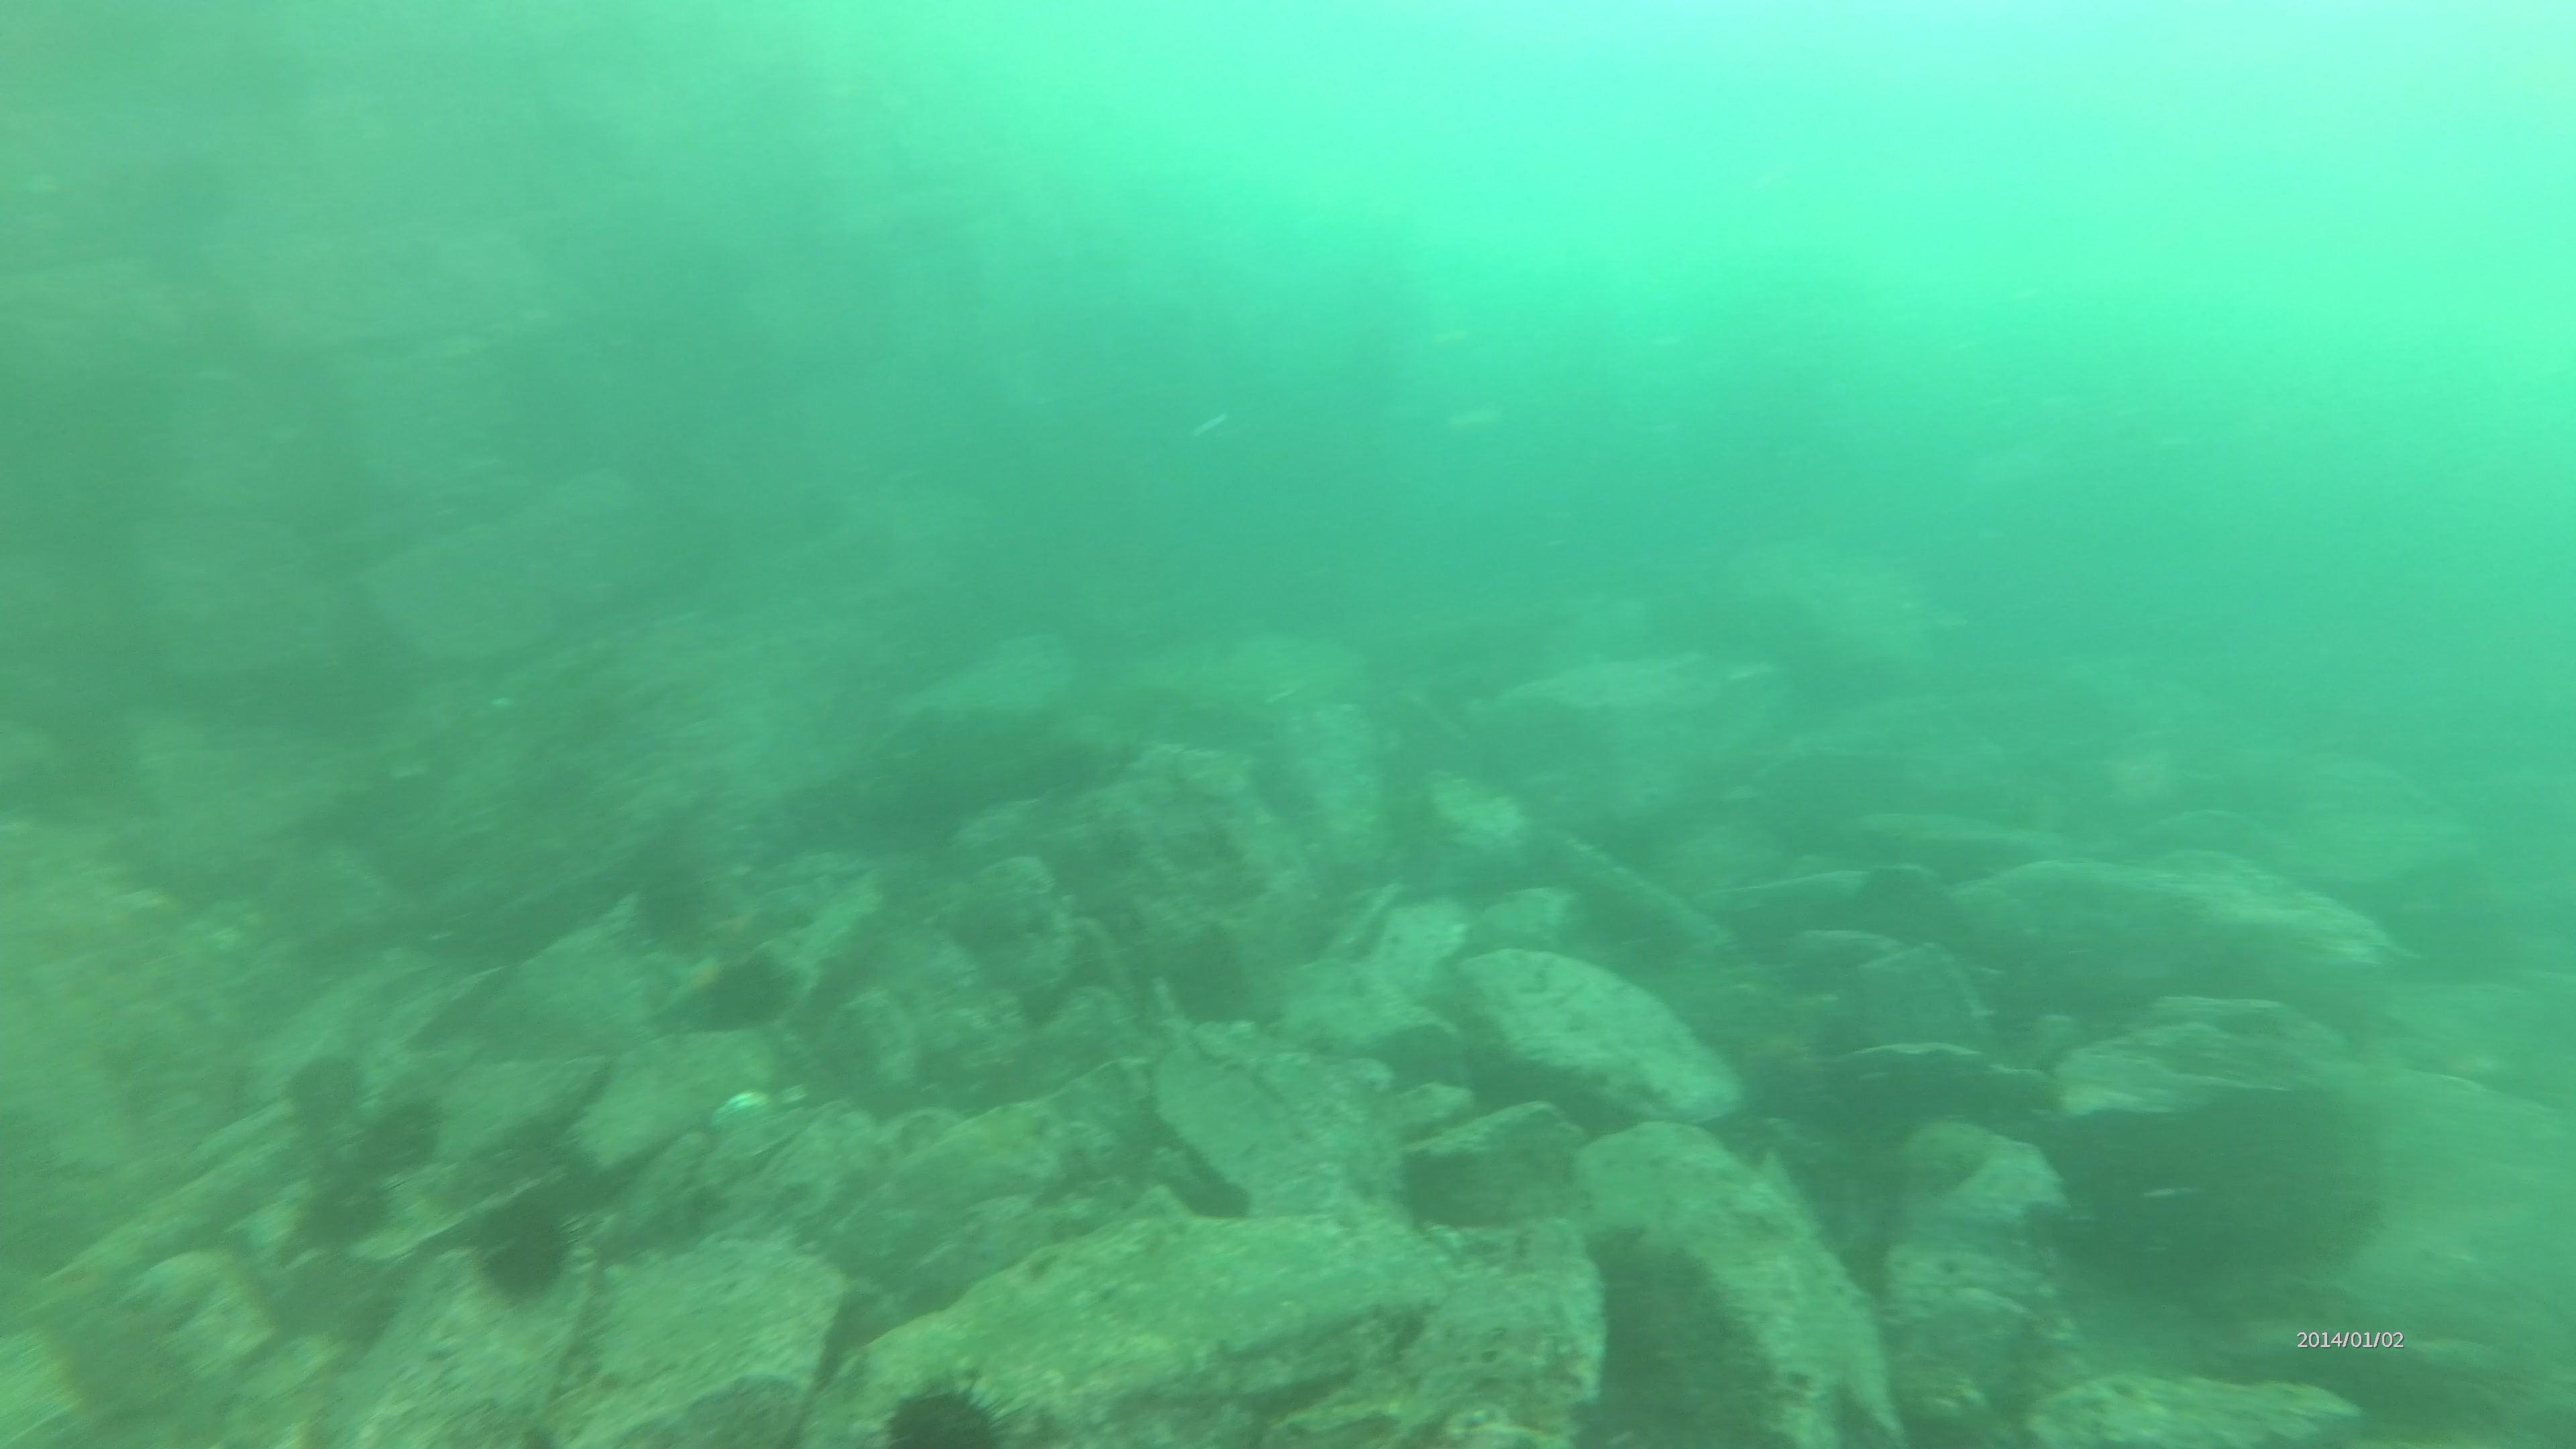echinus: (879, 1378, 1010, 1449), (471, 1198, 564, 1293), (299, 1157, 391, 1240), (628, 860, 717, 938), (288, 1054, 373, 1131), (359, 1097, 444, 1171), (725, 952, 809, 1024)
starfish: (653, 947, 732, 1012)
